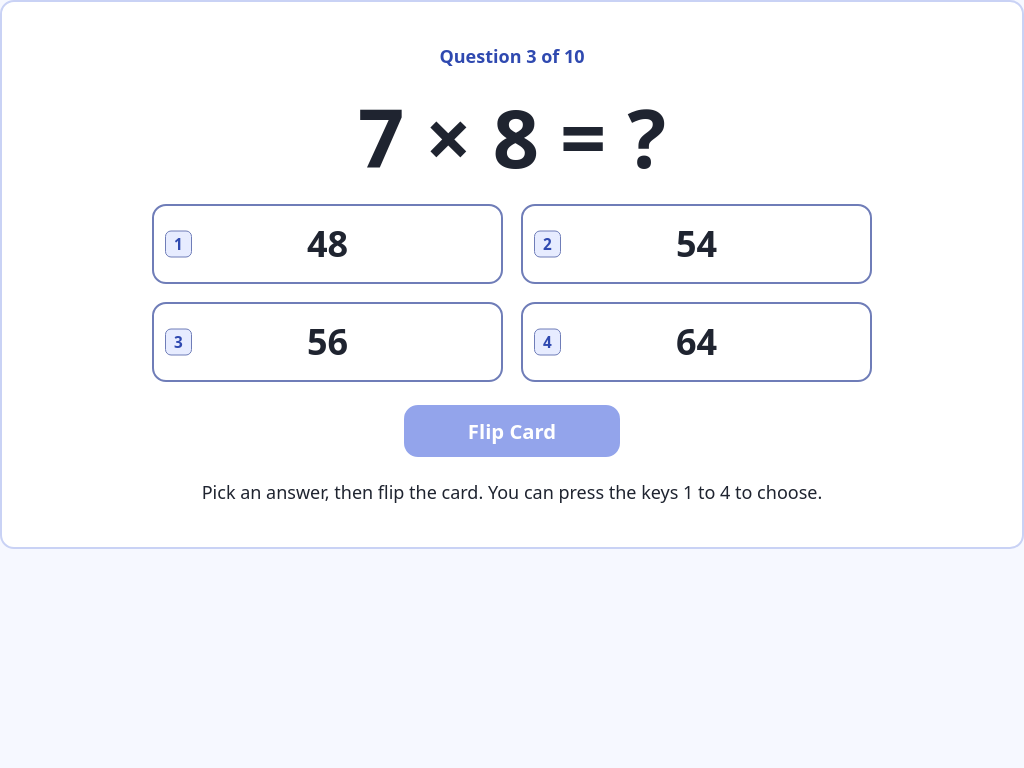
Test case: QuestionCard front › keeps Flip Card disabled until an answer is selected
The image size is (1024, 768).
Check: the button "Flip Card" is disabled, box [404,404,620,457]
What coordinates should you click on to do the following:
click the button "2 54"
I would click on:
 (696, 244)
Its box is [521,204,872,284].
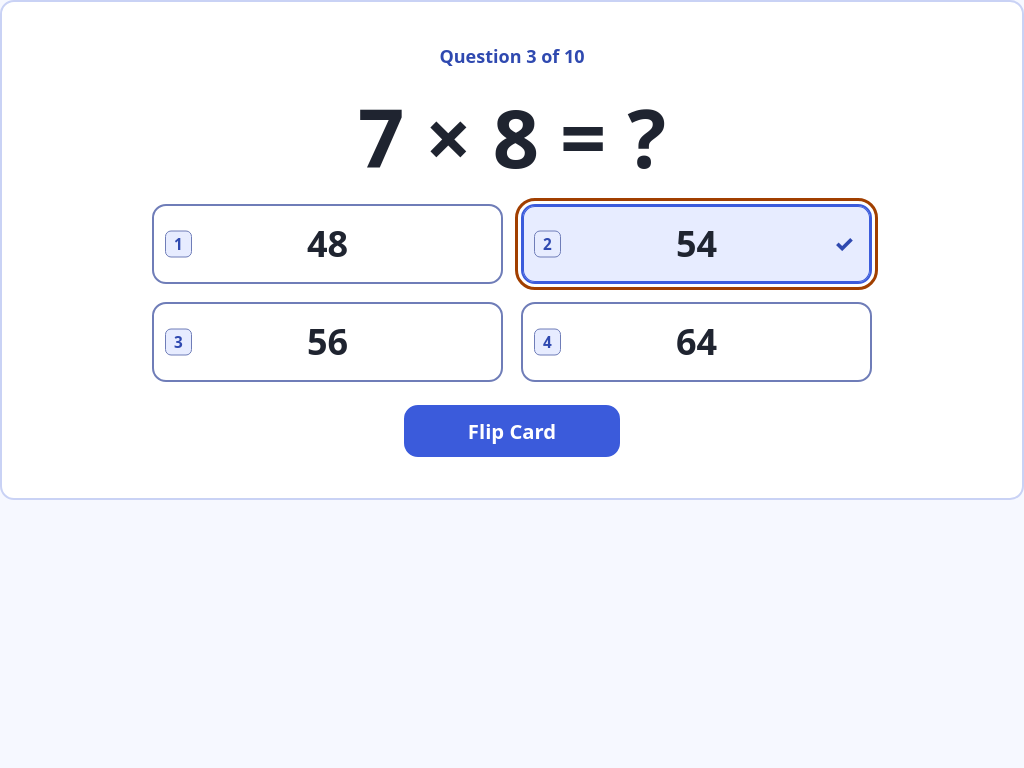
Check: the button "Flip Card" is enabled, box [404,404,620,457]
